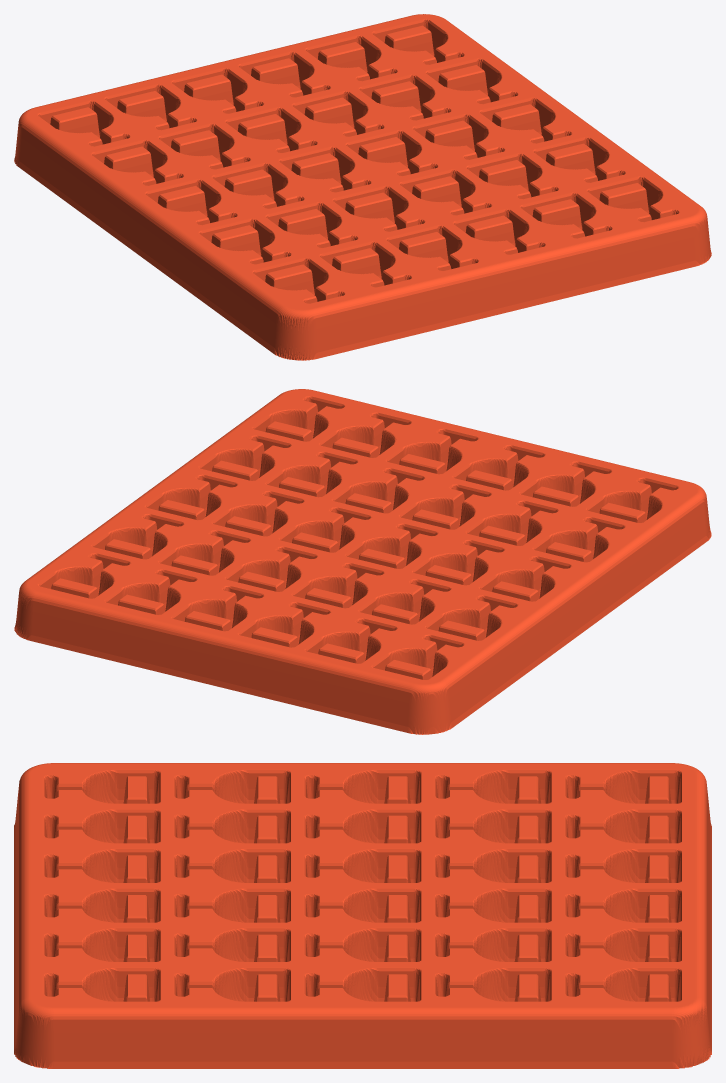
Rendered from mold.glb.
3 renders of one model, top to bottom at view 1: azimuth 30°, elevation 25°; view 2: azimuth 150°, elevation 25°; view 3: azimuth 270°, elevation 25°, orthographic. The views are drawn at different scales.
Visible parts, largest first — view 1: geometry_0; view 2: geometry_0; view 3: geometry_0.
Boxes of the visible parts, x1=… form: geometry_0: x1=14, y1=14, x2=711, y2=360; geometry_0: x1=14, y1=389, x2=711, y2=734; geometry_0: x1=14, y1=763, x2=711, y2=1068.
Size of the model in its own units: 0.1378 by 0.0136 by 0.1581.
